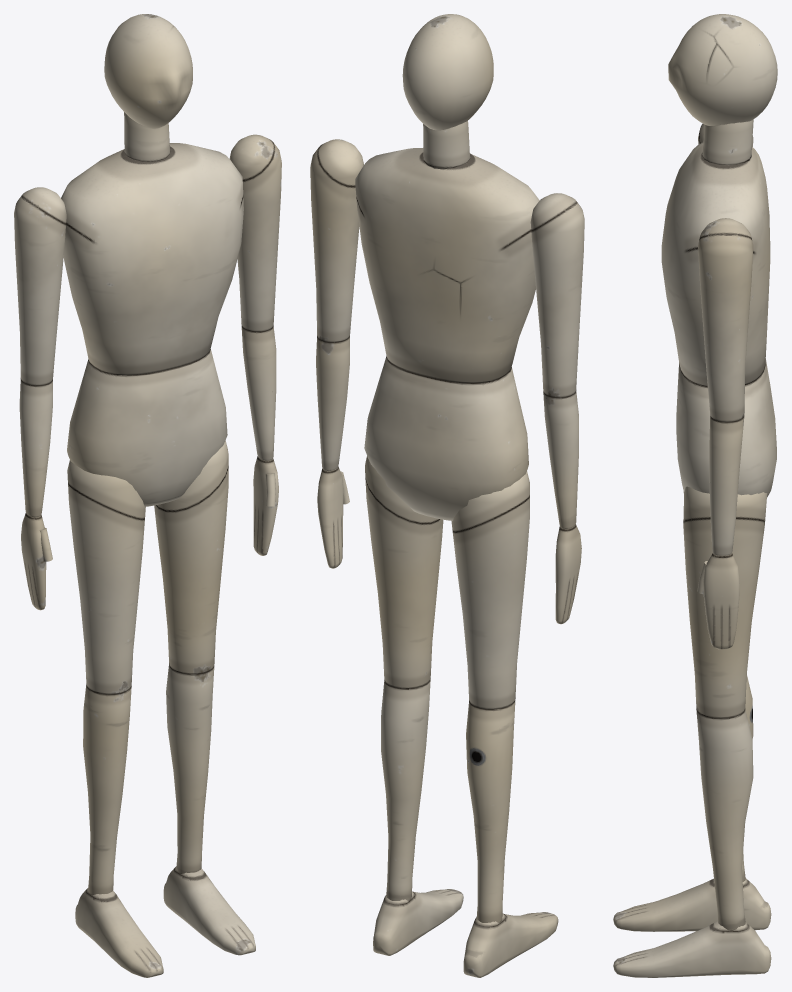
Rendered from Mannequin.fbx.
3 views of the same model, side by side, from view 1: azimuth 30°, elevation 25°; view 2: azimuth 150°, elevation 25°; view 3: azimuth 270°, elevation 25° (orthographic). The views are drawn at different scales.
Parts seen in each view (by area): view 1: UpperTorso, LowerTorso, RightUpperLeg, LeftUpperLeg, Head, RightUpperArm, LeftUpperArm, RightLowerLeg, LeftLowerLeg, LeftFoot, RightFoot, RightLowerArm (+3 smaller); view 2: UpperTorso, LowerTorso, RightUpperLeg, LeftUpperLeg, Head, RightUpperArm, LeftUpperArm, RightLowerLeg, LeftLowerLeg, RightFoot, LeftFoot, RightLowerArm (+3 smaller); view 3: UpperTorso, Head, LeftUpperLeg, LeftUpperArm, LeftLowerLeg, LowerTorso, LeftFoot, RightFoot, LeftLowerArm, LeftHand, RightLowerLeg.
Part boxes in pixels (x1=…): UpperTorso: x1=61, y1=143, x2=243, y2=375; LowerTorso: x1=67, y1=349, x2=227, y2=506; RightUpperLeg: x1=67, y1=460, x2=145, y2=694; LeftUpperLeg: x1=154, y1=441, x2=228, y2=674; Head: x1=104, y1=14, x2=192, y2=161; RightUpperArm: x1=14, y1=187, x2=66, y2=385; LeftUpperArm: x1=229, y1=134, x2=281, y2=331; RightLowerLeg: x1=83, y1=684, x2=131, y2=895; LeftLowerLeg: x1=166, y1=664, x2=214, y2=873; LeftFoot: x1=163, y1=866, x2=255, y2=955; RightFoot: x1=75, y1=888, x2=163, y2=977; RightLowerArm: x1=19, y1=378, x2=52, y2=517; UpperTorso: x1=355, y1=148, x2=539, y2=383; LowerTorso: x1=364, y1=356, x2=528, y2=520; RightUpperLeg: x1=451, y1=471, x2=529, y2=709; LeftUpperLeg: x1=365, y1=456, x2=443, y2=688; Head: x1=402, y1=14, x2=493, y2=169; RightUpperArm: x1=530, y1=193, x2=584, y2=397; LeftUpperArm: x1=310, y1=139, x2=363, y2=342; RightLowerLeg: x1=466, y1=698, x2=515, y2=922; LeftLowerLeg: x1=381, y1=679, x2=430, y2=900; RightFoot: x1=463, y1=912, x2=558, y2=977; LeftFoot: x1=373, y1=889, x2=463, y2=955; RightLowerArm: x1=543, y1=390, x2=578, y2=528; UpperTorso: x1=661, y1=142, x2=770, y2=386; Head: x1=668, y1=14, x2=777, y2=164; LeftUpperLeg: x1=683, y1=486, x2=767, y2=718; LeftUpperArm: x1=698, y1=218, x2=753, y2=422; LeftLowerLeg: x1=696, y1=709, x2=753, y2=930; LowerTorso: x1=676, y1=358, x2=776, y2=497; LeftFoot: x1=613, y1=921, x2=771, y2=977; RightFoot: x1=613, y1=878, x2=771, y2=931; LeftLowerArm: x1=709, y1=416, x2=744, y2=555; LeftHand: x1=697, y1=553, x2=739, y2=649; RightLowerLeg: x1=742, y1=675, x2=753, y2=881.
Bounding box in the file's own units: 1.89 × 6.3 × 1.01.
1 material, 1 textured.
